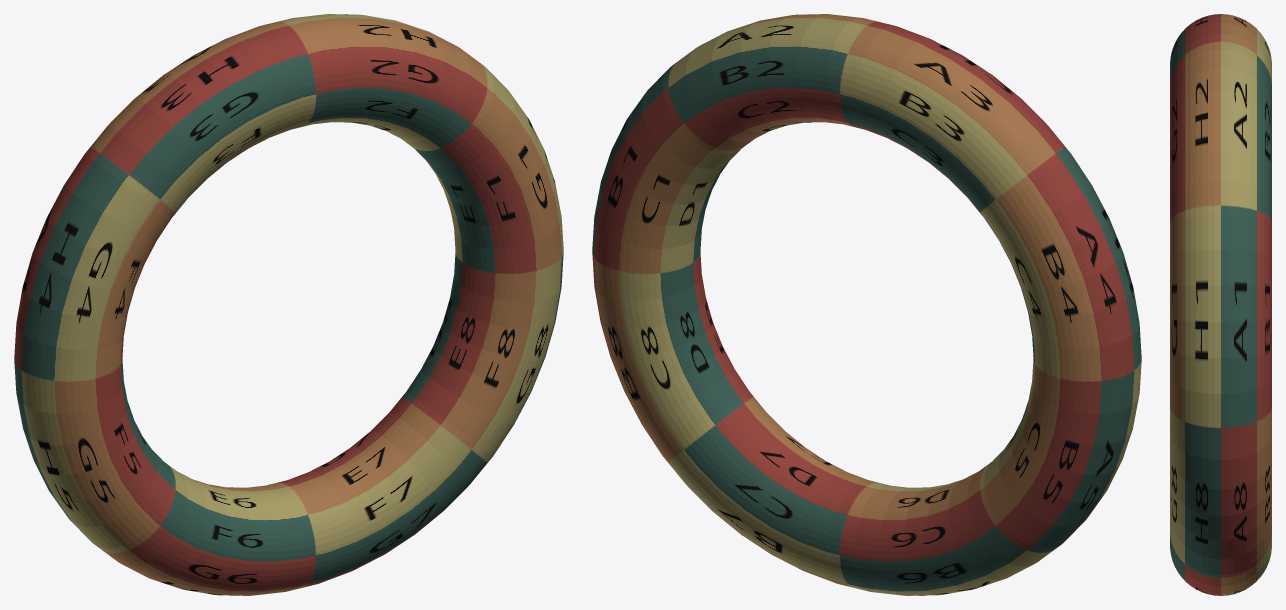
Rendered from texture_torus_R1_r1.glb.
3 views of the same model, side by side, from view 1: azimuth 30°, elevation 25°; view 2: azimuth 150°, elevation 25°; view 3: azimuth 270°, elevation 25° (orthographic). The views are drawn at different scales.
Visible parts, largest first — view 1: world; view 2: world; view 3: world.
Part boxes in pixels (left/top/right/bottom): world: left=14, top=14, right=563, bottom=595; world: left=592, top=14, right=1141, bottom=595; world: left=1170, top=14, right=1271, bottom=595.
Bounding box in the file's own units: 12.93 × 12.91 × 2.26.
Materials: 1 (1 with a texture image).
